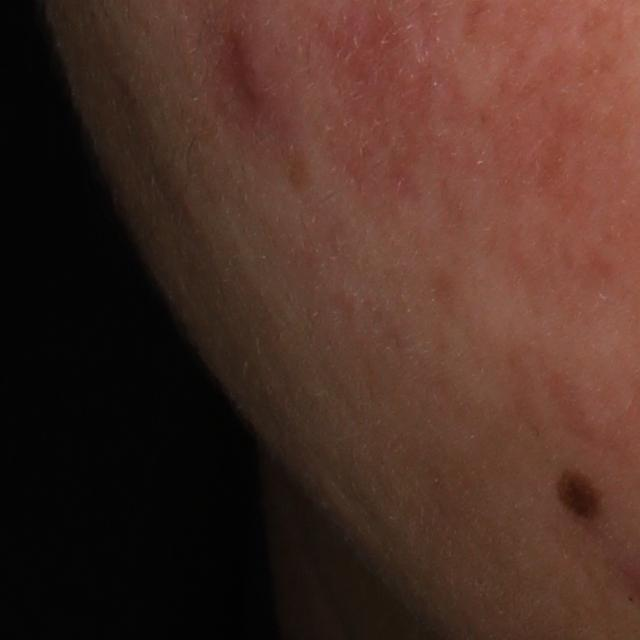nevus: (552, 467, 612, 526)
